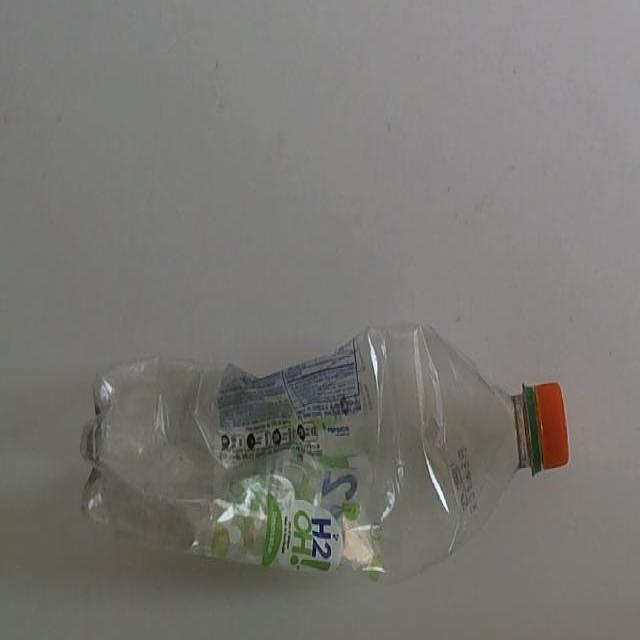defect: (76, 320, 573, 590)
